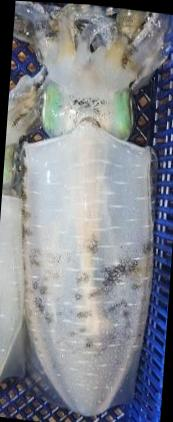fish: (15, 1, 166, 414)
